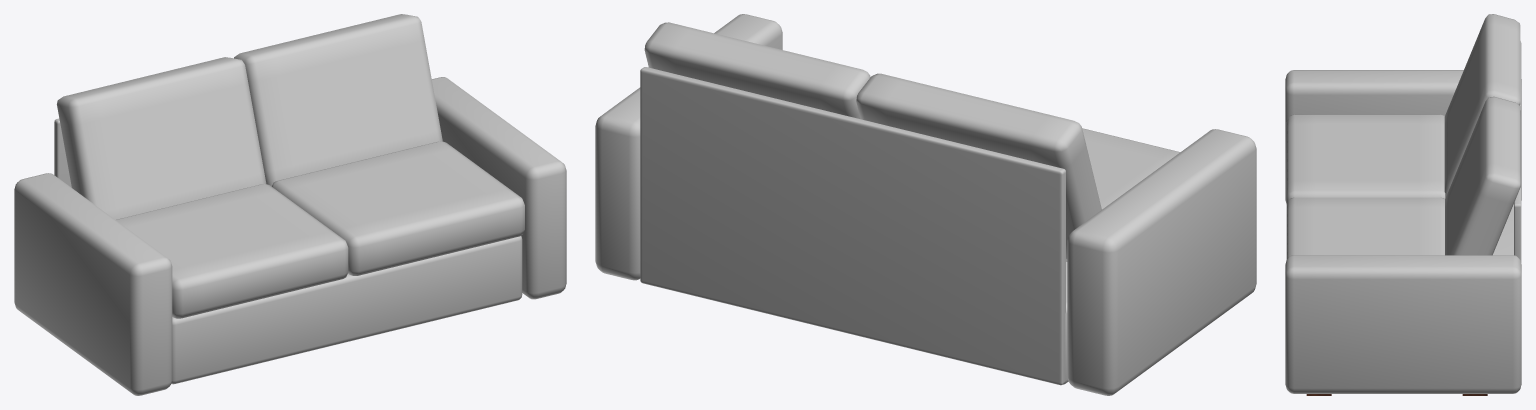
File: Sofa 1.fbx
3 renders of one model, left to right at view 1: azimuth 30°, elevation 25°; view 2: azimuth 150°, elevation 25°; view 3: azimuth 270°, elevation 25°, orthographic. The views are drawn at different scales.
Visible parts, largest first — view 1: Sofa 1; view 2: Sofa 1; view 3: Sofa 1.
Part boxes in pixels (box(x1,y1,x2,y2)): Sofa 1: box(14, 14, 566, 395); Sofa 1: box(595, 14, 1256, 395); Sofa 1: box(1285, 14, 1521, 395).
Size of the model in its own units: 173 by 81.68 by 84.65.
